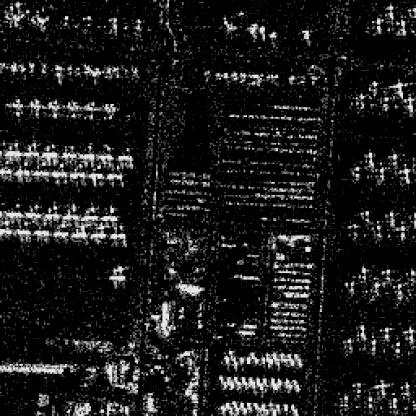airplane: (3, 96, 26, 120), (109, 263, 128, 281), (396, 164, 413, 184), (26, 99, 44, 117), (97, 146, 117, 162), (60, 145, 80, 161), (99, 206, 117, 223), (106, 224, 125, 240), (390, 283, 406, 302), (68, 224, 88, 239), (19, 141, 39, 156), (52, 161, 68, 179), (106, 164, 124, 180), (116, 148, 134, 164), (84, 99, 100, 117), (372, 378, 388, 396), (351, 380, 364, 402), (50, 223, 70, 237), (367, 223, 387, 237), (78, 145, 94, 162), (13, 221, 31, 236), (47, 99, 62, 117), (5, 202, 21, 218), (23, 203, 39, 219), (42, 203, 58, 219), (70, 162, 86, 178), (5, 143, 21, 159), (65, 101, 81, 117), (102, 101, 118, 117), (358, 208, 374, 224), (39, 145, 57, 159), (395, 18, 409, 36), (354, 265, 372, 279), (82, 206, 98, 221), (90, 224, 106, 239), (89, 164, 104, 180), (346, 222, 359, 240), (385, 151, 400, 166), (62, 205, 78, 219), (15, 162, 31, 176), (32, 163, 48, 177), (370, 16, 384, 32), (379, 265, 393, 281), (366, 80, 378, 98), (367, 336, 379, 354), (32, 223, 48, 236), (343, 278, 359, 291), (338, 392, 351, 408), (384, 3, 396, 20), (392, 80, 403, 98), (403, 94, 414, 112), (364, 151, 375, 169), (403, 268, 414, 286), (352, 93, 366, 107), (369, 280, 383, 294), (0, 159, 13, 174), (395, 224, 408, 239), (342, 336, 354, 352), (380, 322, 392, 338), (384, 211, 396, 226), (0, 219, 11, 235), (379, 96, 390, 112), (351, 164, 362, 180), (356, 322, 367, 338), (392, 338, 403, 354), (400, 382, 411, 398), (376, 166, 388, 180), (388, 395, 400, 409), (403, 325, 414, 340), (364, 395, 375, 409), (73, 65, 83, 76), (81, 63, 91, 73), (91, 66, 101, 76), (237, 354, 244, 368), (0, 60, 8, 72), (10, 60, 18, 72), (18, 60, 26, 72), (54, 64, 62, 76), (26, 61, 34, 72), (65, 65, 73, 76), (231, 354, 237, 368), (104, 66, 112, 76), (291, 377, 299, 387), (112, 67, 119, 78), (267, 401, 273, 413), (274, 401, 280, 413), (286, 380, 292, 392), (278, 349, 284, 361), (224, 401, 231, 411), (281, 403, 288, 413), (258, 401, 265, 411), (245, 401, 252, 411), (232, 375, 239, 385), (294, 382, 301, 392), (271, 382, 278, 392), (223, 353, 229, 364), (274, 356, 280, 367), (268, 377, 276, 385), (39, 63, 45, 73), (230, 400, 236, 410), (226, 374, 232, 384), (240, 374, 246, 384), (283, 377, 289, 387), (258, 380, 264, 390), (249, 349, 255, 359), (267, 356, 273, 366), (282, 356, 288, 366), (289, 403, 296, 411), (229, 380, 236, 388), (228, 348, 233, 359), (289, 356, 294, 367), (252, 401, 257, 411), (237, 378, 242, 388), (276, 377, 281, 387), (247, 375, 252, 385), (255, 375, 260, 385), (245, 354, 250, 364), (260, 354, 265, 364), (218, 374, 224, 382), (221, 380, 227, 388), (254, 354, 260, 362), (292, 351, 298, 359), (296, 356, 300, 367), (239, 402, 244, 410), (262, 377, 266, 387), (250, 380, 255, 388), (265, 350, 270, 358), (272, 349, 276, 359), (286, 351, 291, 359)
